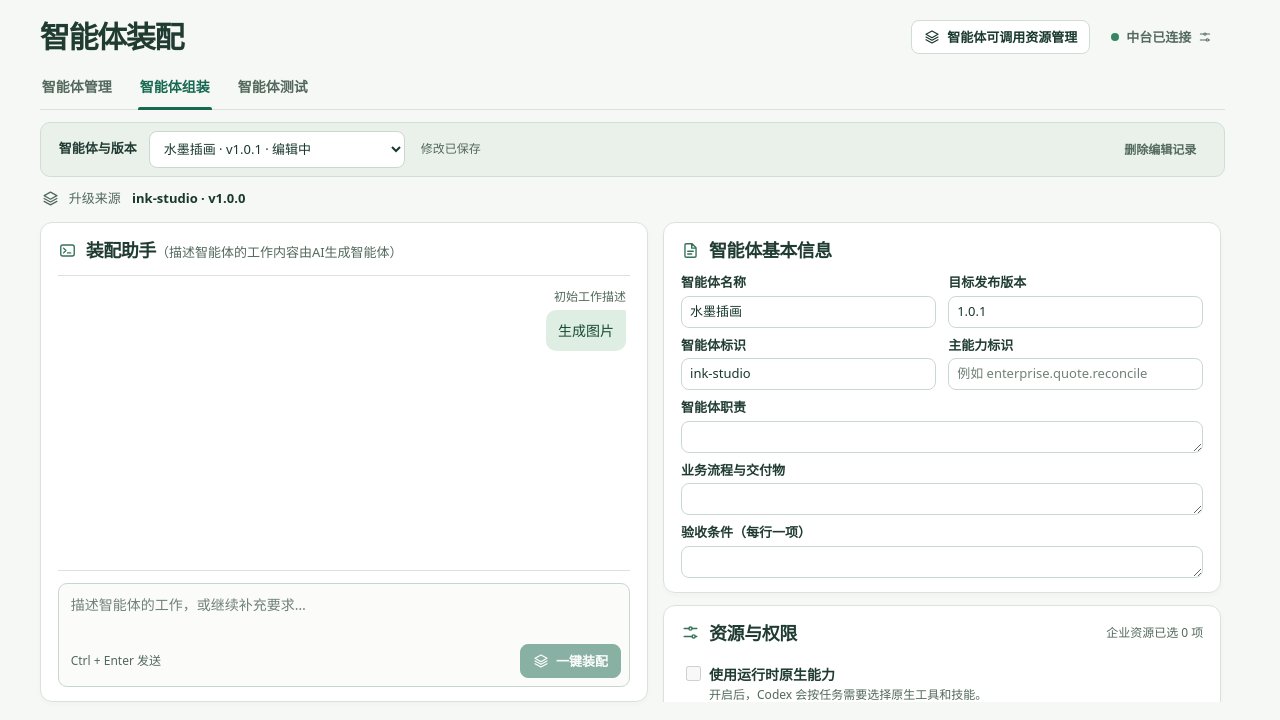
keeps a legacy declaration read-only and migrates only an explicit choice on a compatible service (false)
Expected: the checkbox labelled "使用运行时原生能力" is not checked, [686,666,701,681]
Replace the text in the field labelled "智能体名称" with "新版水墨插画" at (809, 312), box [681,296,936,328]
(page scrolled)
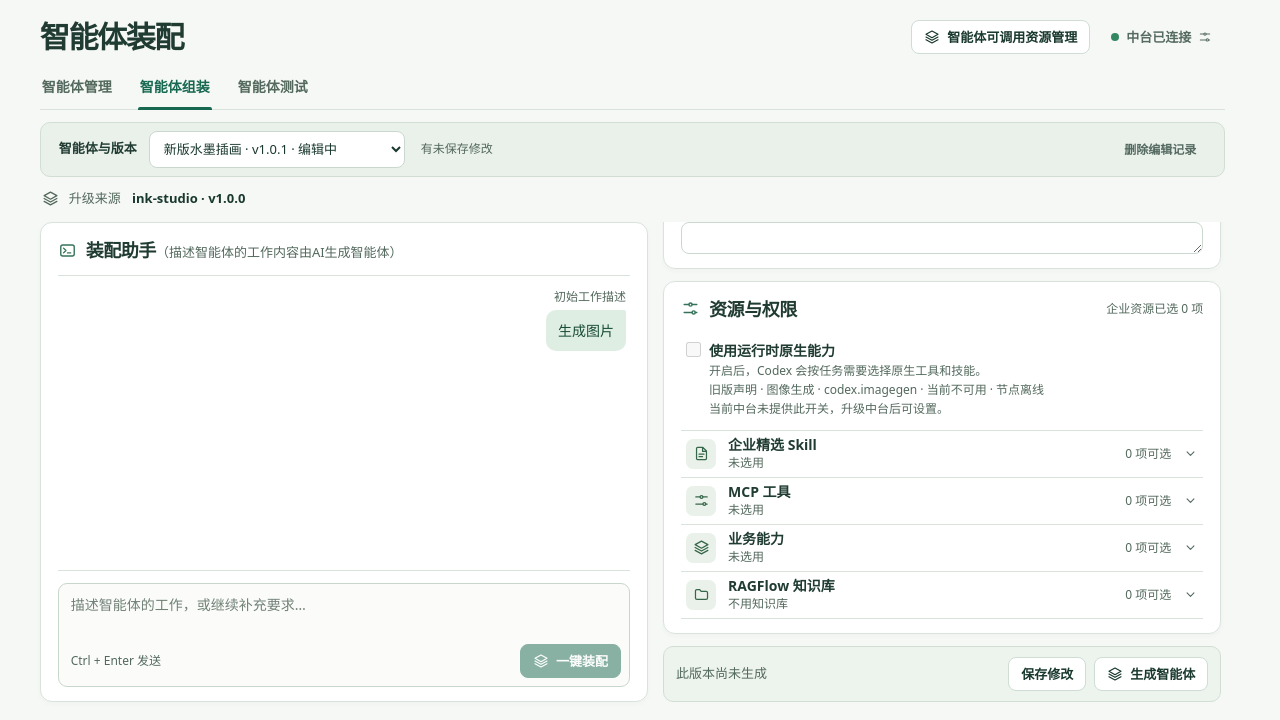
Click the button "保存修改".
click(1047, 674)  # box [1008,657,1086,691]
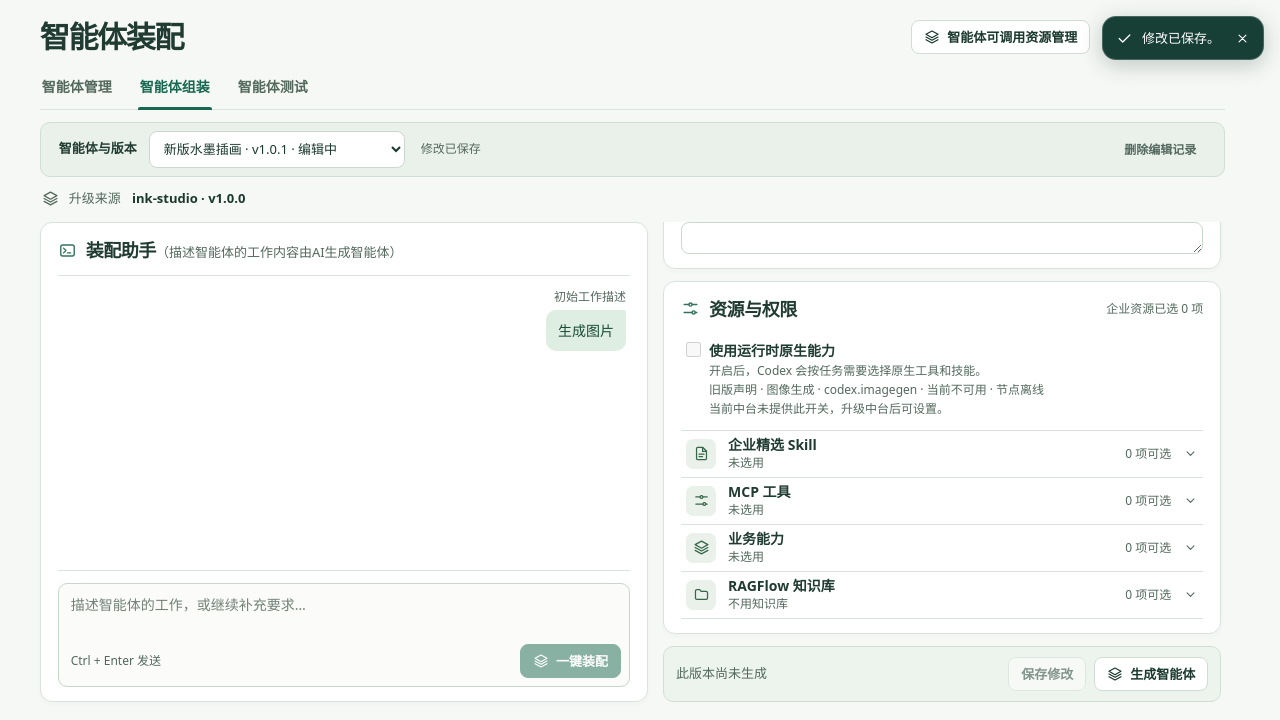
Expected: the checkbox labelled "使用运行时原生能力" is disabled, [686,342,701,357]
Result: the text "当前中台未提供此开关，升级中台后可设置。" is shown at [709,400,949,417]
Result: the text "修改已保存。" is shown at [1142,28,1220,48]
